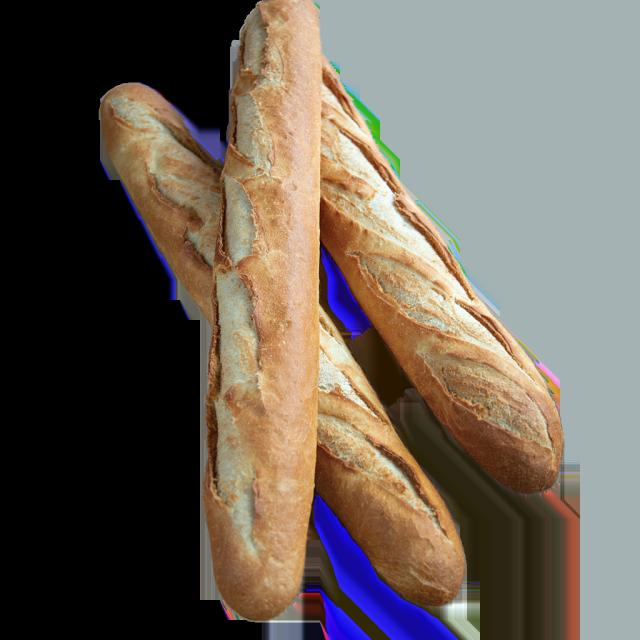Baguette: (320, 59, 563, 492), (203, 0, 321, 620), (315, 309, 464, 605), (102, 84, 221, 334)
